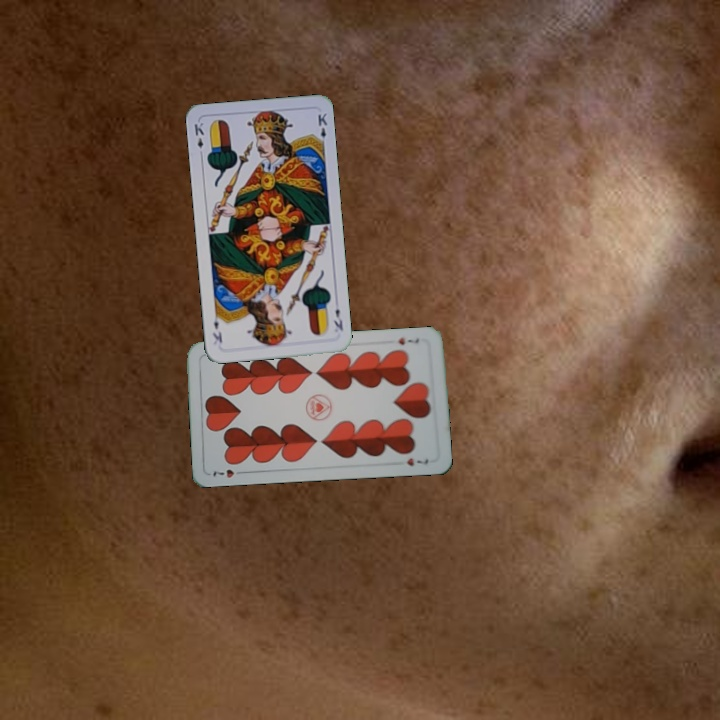EK: (190, 119, 206, 159), (330, 305, 346, 333)
H7: (209, 465, 248, 481), (394, 333, 421, 348)
